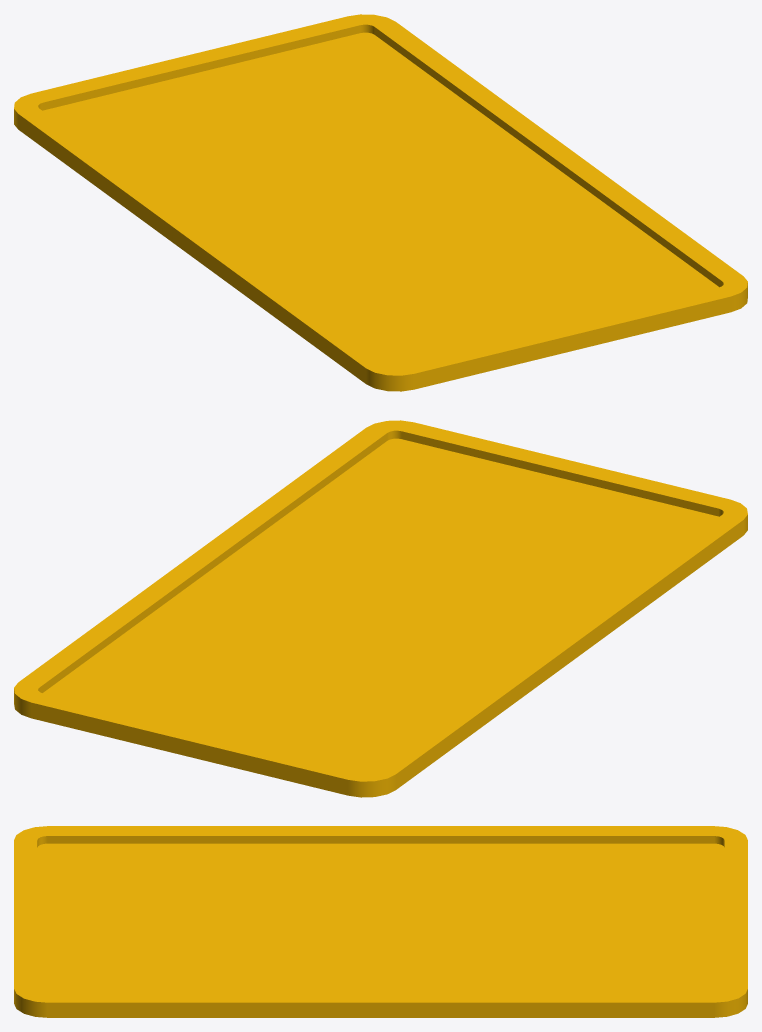
File: _card_1.fbx
The picture shows the model from 3 angles, top to bottom: view 1: azimuth 30°, elevation 25°; view 2: azimuth 150°, elevation 25°; view 3: azimuth 270°, elevation 25°; orthographic projection. The views are drawn at different scales.
Parts seen in each view (by area): view 1: 개체_1; view 2: 개체_1; view 3: 개체_1.
Boxes of the visible parts, x1=… form: 개체_1: x1=14, y1=14, x2=747, y2=391; 개체_1: x1=14, y1=420, x2=747, y2=797; 개체_1: x1=14, y1=826, x2=747, y2=1017.
Bounding box in the file's own units: 12.46 × 21.9 × 0.5.
